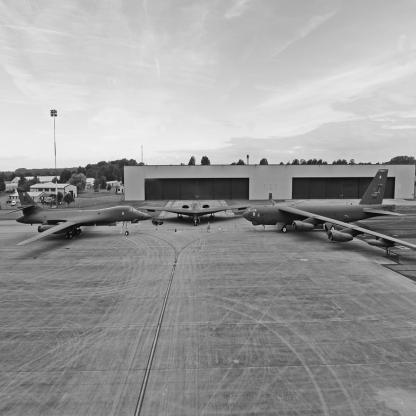B1: (1, 188, 153, 247)
B2: (137, 202, 255, 227)
B52: (243, 170, 416, 256)
